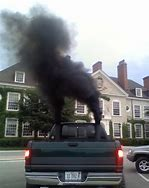smoke: (8, 4, 103, 124)
